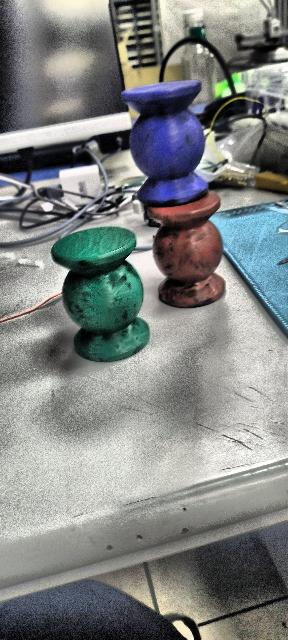blue: (122, 80, 208, 206)
green: (53, 228, 155, 362)
red: (125, 193, 234, 307)
